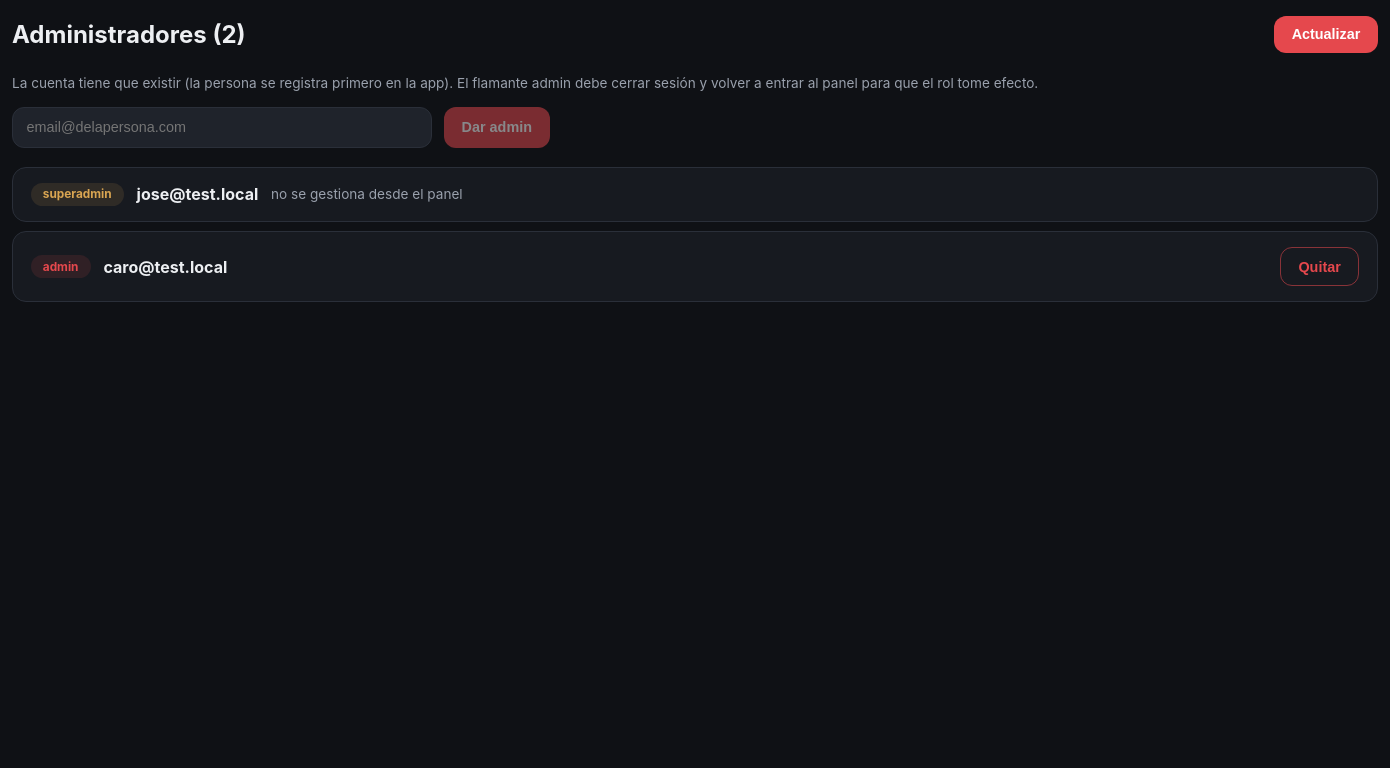
Test case: AdminsPage › si la API de alta falla, muestra el error en un toast
Expected: the text "caro@test.local" is shown, [104,256,227,276]
In the field named "Email de la persona a hacer admin": (222, 127) [12,107,432,148], type "fantasma@test.local"
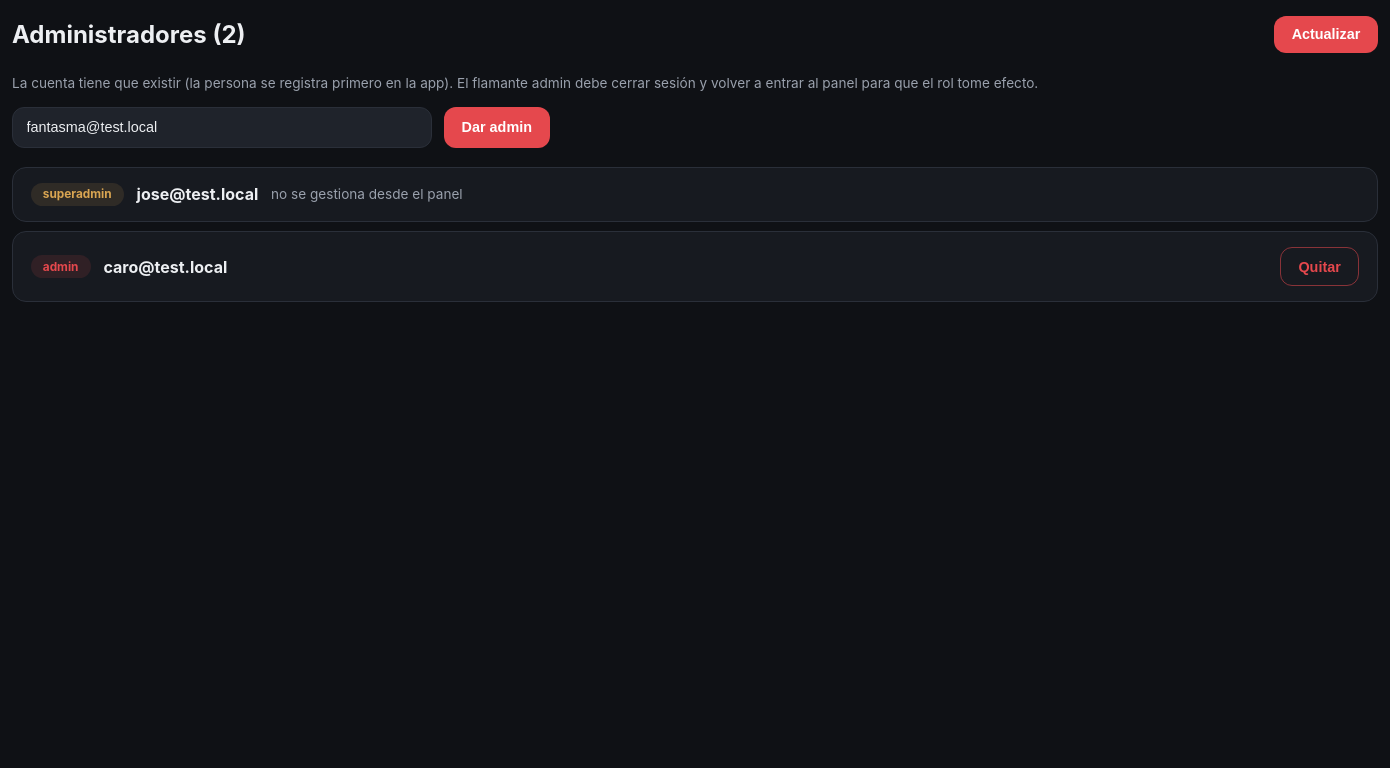
Click the button "Dar admin": (497, 127) [444,107,550,148]
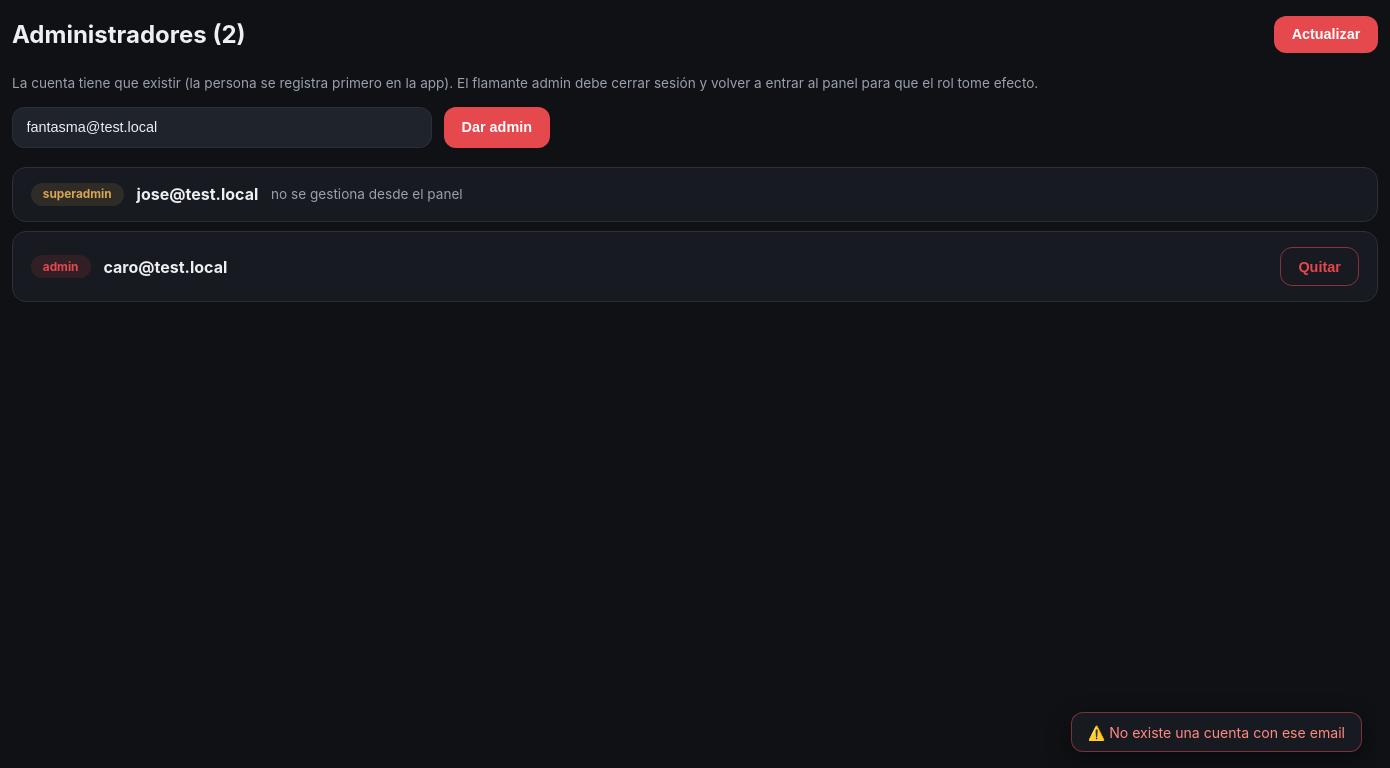
Result: the text "⚠️ No existe una cuenta con ese email" is shown at [1071,712,1362,752]
